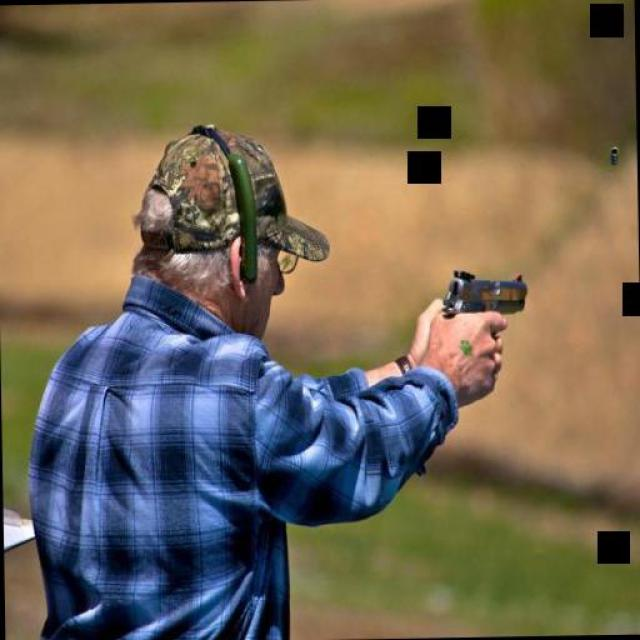gun: (434, 258, 528, 332)
